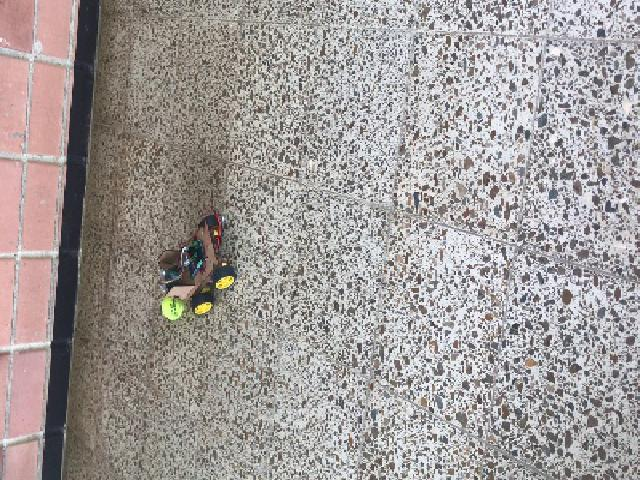Ball: (160, 298, 179, 318)
Robot: (157, 215, 235, 313)
